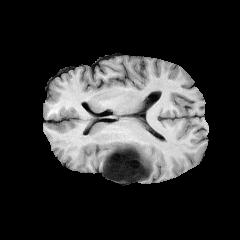glioma: (103, 142, 155, 182)
